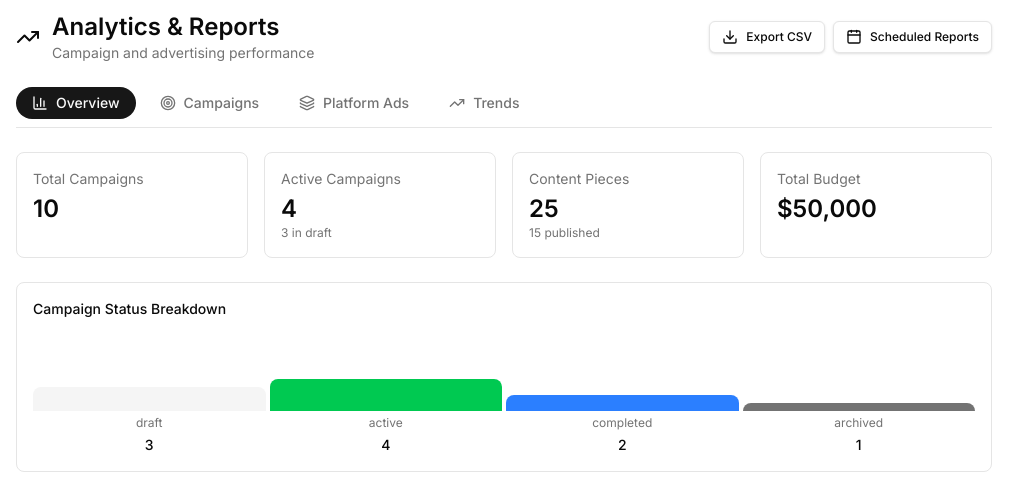
Scenario: AnalyticsPage › switches to campaigns tab
This screenshot has width=1009, height=489.
Step 1. Click the button "Campaigns" → x=209, y=103, box [144,87,275,119]
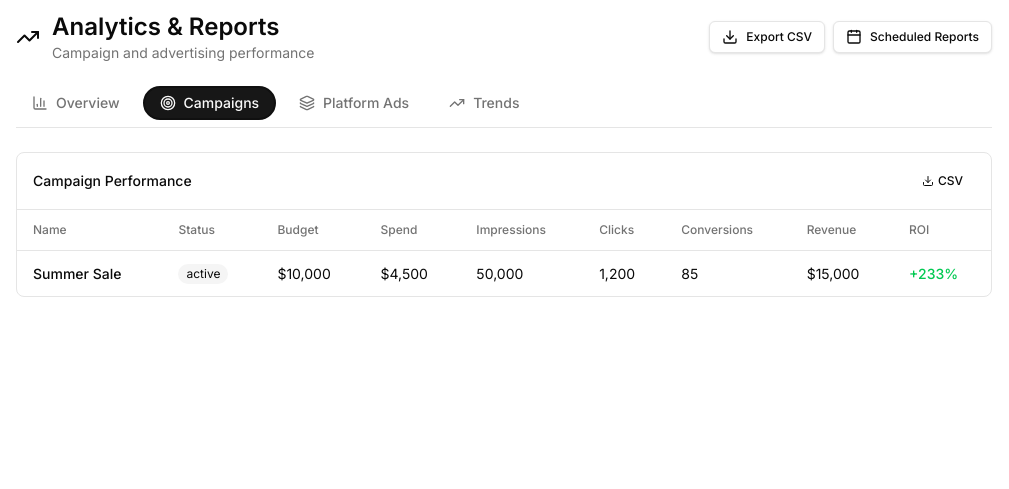
Check: the text "Summer Sale" is shown, box [17,250,162,296]
Check: the text "+233%" is shown, box [893,250,991,296]
